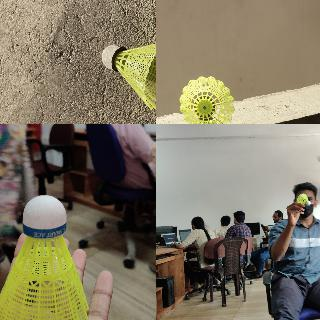shuttlecock: (0, 194, 88, 319), (101, 40, 155, 111), (179, 76, 235, 123), (296, 193, 310, 205)
